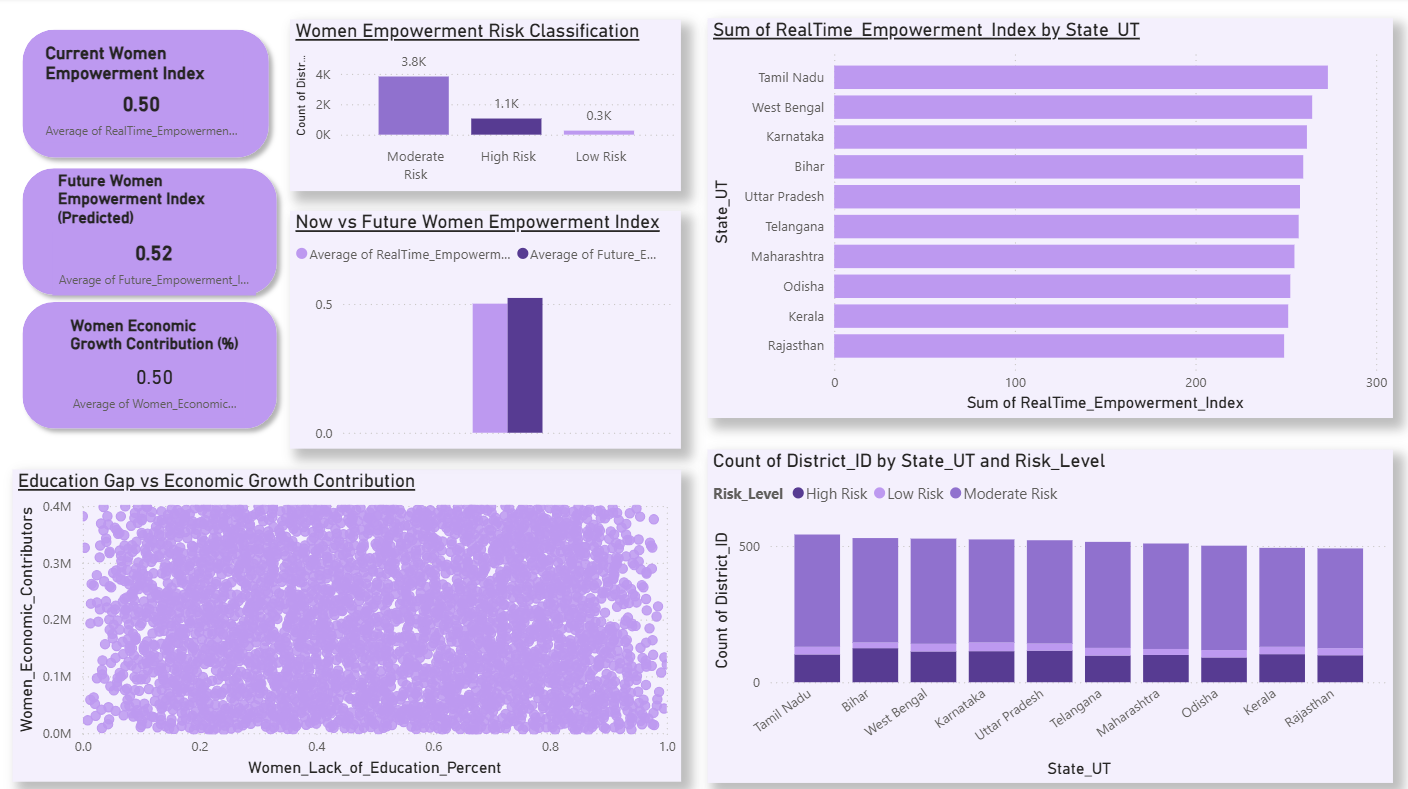

This screenshot's page, from the dashboard's own definition file:
{"tool":"powerbi","page":{"name":"Page 1","canvas":[1280,720],"ordinal":0},"visuals":[{"type":"shape","box":[11.4,20,240.9,134],"z":0},{"type":"card","title":"Current Women Empowerment Index","fields":{"Values":["Avg(women_empowerment_FINAL_FOR_POWERBI.RealTime_Empowerment_Index)"]},"box":[35.6,41.3,183.9,89.8],"z":1000},{"type":"shape","box":[11.4,145.4,248,132.6],"z":2000},{"type":"card","title":"Future Women Empowerment Index (Predicted)","fields":{"Values":["Avg(women_empowerment_FINAL_FOR_POWERBI.Future_Empowerment_Index)"]},"box":[47,156.8,183.9,112.6],"z":3000},{"type":"shape","box":[11.4,266.5,248,132.6],"z":4000},{"type":"card","title":"Women Economic Growth Contribution (%)","fields":{"Values":["Avg(women_empowerment_FINAL_FOR_POWERBI.Women_Economic_Growth_Contribution_Percent)"]},"box":[58.4,287.9,162.5,92.7],"z":5000},{"type":"scatterChart","title":"Education Gap vs Economic Growth Contribution","fields":{"X":["women_empowerment_FINAL_FOR_POWERBI.Women_Lack_of_Education_Percent"],"Y":["women_empowerment_FINAL_FOR_POWERBI.Women_Economic_Contributors"]},"box":[11.2,427.5,605,282.5],"z":6000},{"type":"columnChart","fields":{"Category":["women_empowerment_FINAL_FOR_POWERBI.State_UT"],"Y":["CountNonNull(women_empowerment_FINAL_FOR_POWERBI.District_ID)"],"Series":["women_empowerment_FINAL_FOR_POWERBI.Risk_Level"]},"box":[640,408.8,620,301.2],"z":7000},{"type":"clusteredColumnChart","title":"Women Empowerment Risk Classification","fields":{"Category":["women_empowerment_FINAL_FOR_POWERBI.Risk_Level"],"Y":["CountNonNull(women_empowerment_FINAL_FOR_POWERBI.District_ID)"]},"box":[262.3,20,353.5,155.4],"z":8000},{"type":"clusteredBarChart","fields":{"Category":["women_empowerment_FINAL_FOR_POWERBI.State_UT"],"Y":["Sum(women_empowerment_FINAL_FOR_POWERBI.RealTime_Empowerment_Index)"]},"box":[640,18.8,620,361.2],"z":9000},{"type":"clusteredColumnChart","title":"Now vs Future Women Empowerment Index","fields":{"Y":["Avg(women_empowerment_FINAL_FOR_POWERBI.RealTime_Empowerment_Index)","Avg(women_empowerment_FINAL_FOR_POWERBI.Future_Empowerment_Index)"]},"box":[262.5,193.8,353.8,215],"z":10000}]}

Visuals, with their boxes in screenshot pixels (x1, y1, x2, y2), scaled from the page's 1280x720 canvas onto the 1408x789 screenshot:
shape: (13, 22, 278, 169)
"Current Women Empowerment Index" card: (39, 45, 241, 144)
shape: (13, 159, 285, 305)
"Future Women Empowerment Index (Predicted)" card: (52, 172, 254, 295)
shape: (13, 292, 285, 437)
"Women Economic Growth Contribution (%)" card: (64, 315, 243, 417)
"Education Gap vs Economic Growth Contribution" scatterChart: (12, 468, 678, 778)
columnChart - women_empowerment_FINAL_FOR_POWERBI.State_UT x CountNonNull(women_empowerment_FINAL_FOR_POWERBI.District_ID): (704, 448, 1386, 778)
"Women Empowerment Risk Classification" clusteredColumnChart: (289, 22, 677, 192)
clusteredBarChart - women_empowerment_FINAL_FOR_POWERBI.State_UT x Sum(women_empowerment_FINAL_FOR_POWERBI.RealTime_Empowerment_Index): (704, 21, 1386, 416)
"Now vs Future Women Empowerment Index" clusteredColumnChart: (289, 212, 678, 448)
